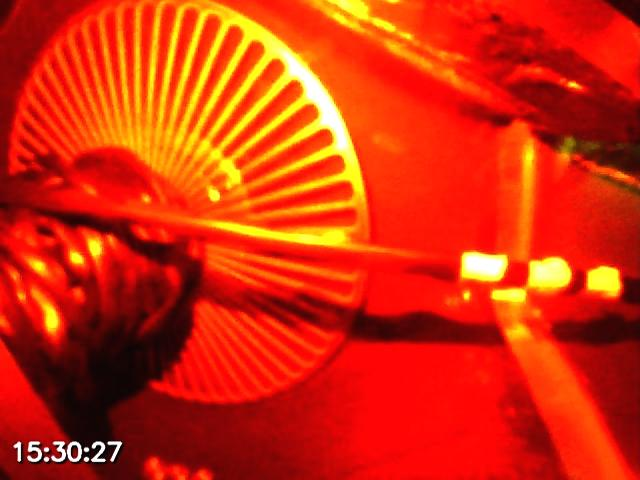white-dots: (459, 251, 625, 301)
